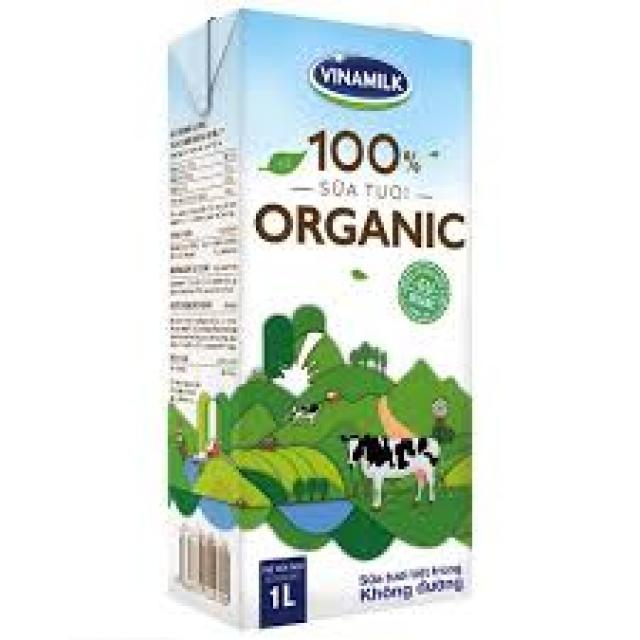non_white_jug: (143, 7, 490, 627)
